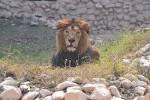lion: (52, 17, 102, 71)
